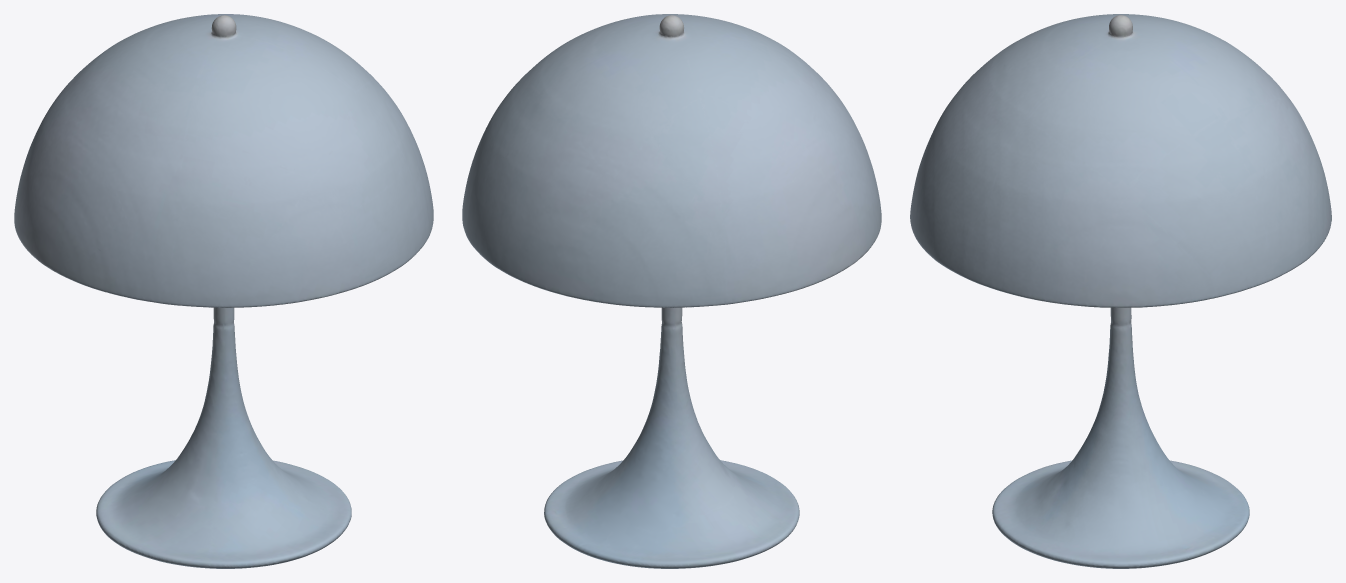
3 renders of one model, left to right at view 1: azimuth 30°, elevation 25°; view 2: azimuth 150°, elevation 25°; view 3: azimuth 270°, elevation 25°, orthographic.
Parts seen in each view (by area): view 1: tripo_node_a6c02617-1929-4d96-bdf3-b97667cb8e0d; view 2: tripo_node_a6c02617-1929-4d96-bdf3-b97667cb8e0d; view 3: tripo_node_a6c02617-1929-4d96-bdf3-b97667cb8e0d.
Part boxes in pixels (x1,y1,x2,y2): tripo_node_a6c02617-1929-4d96-bdf3-b97667cb8e0d: (14,14,433,568); tripo_node_a6c02617-1929-4d96-bdf3-b97667cb8e0d: (462,14,881,568); tripo_node_a6c02617-1929-4d96-bdf3-b97667cb8e0d: (910,14,1331,568).
Size of the model in its own units: 0.713 by 0.9456 by 0.7134.
Materials: 1 (1 with a texture image).
